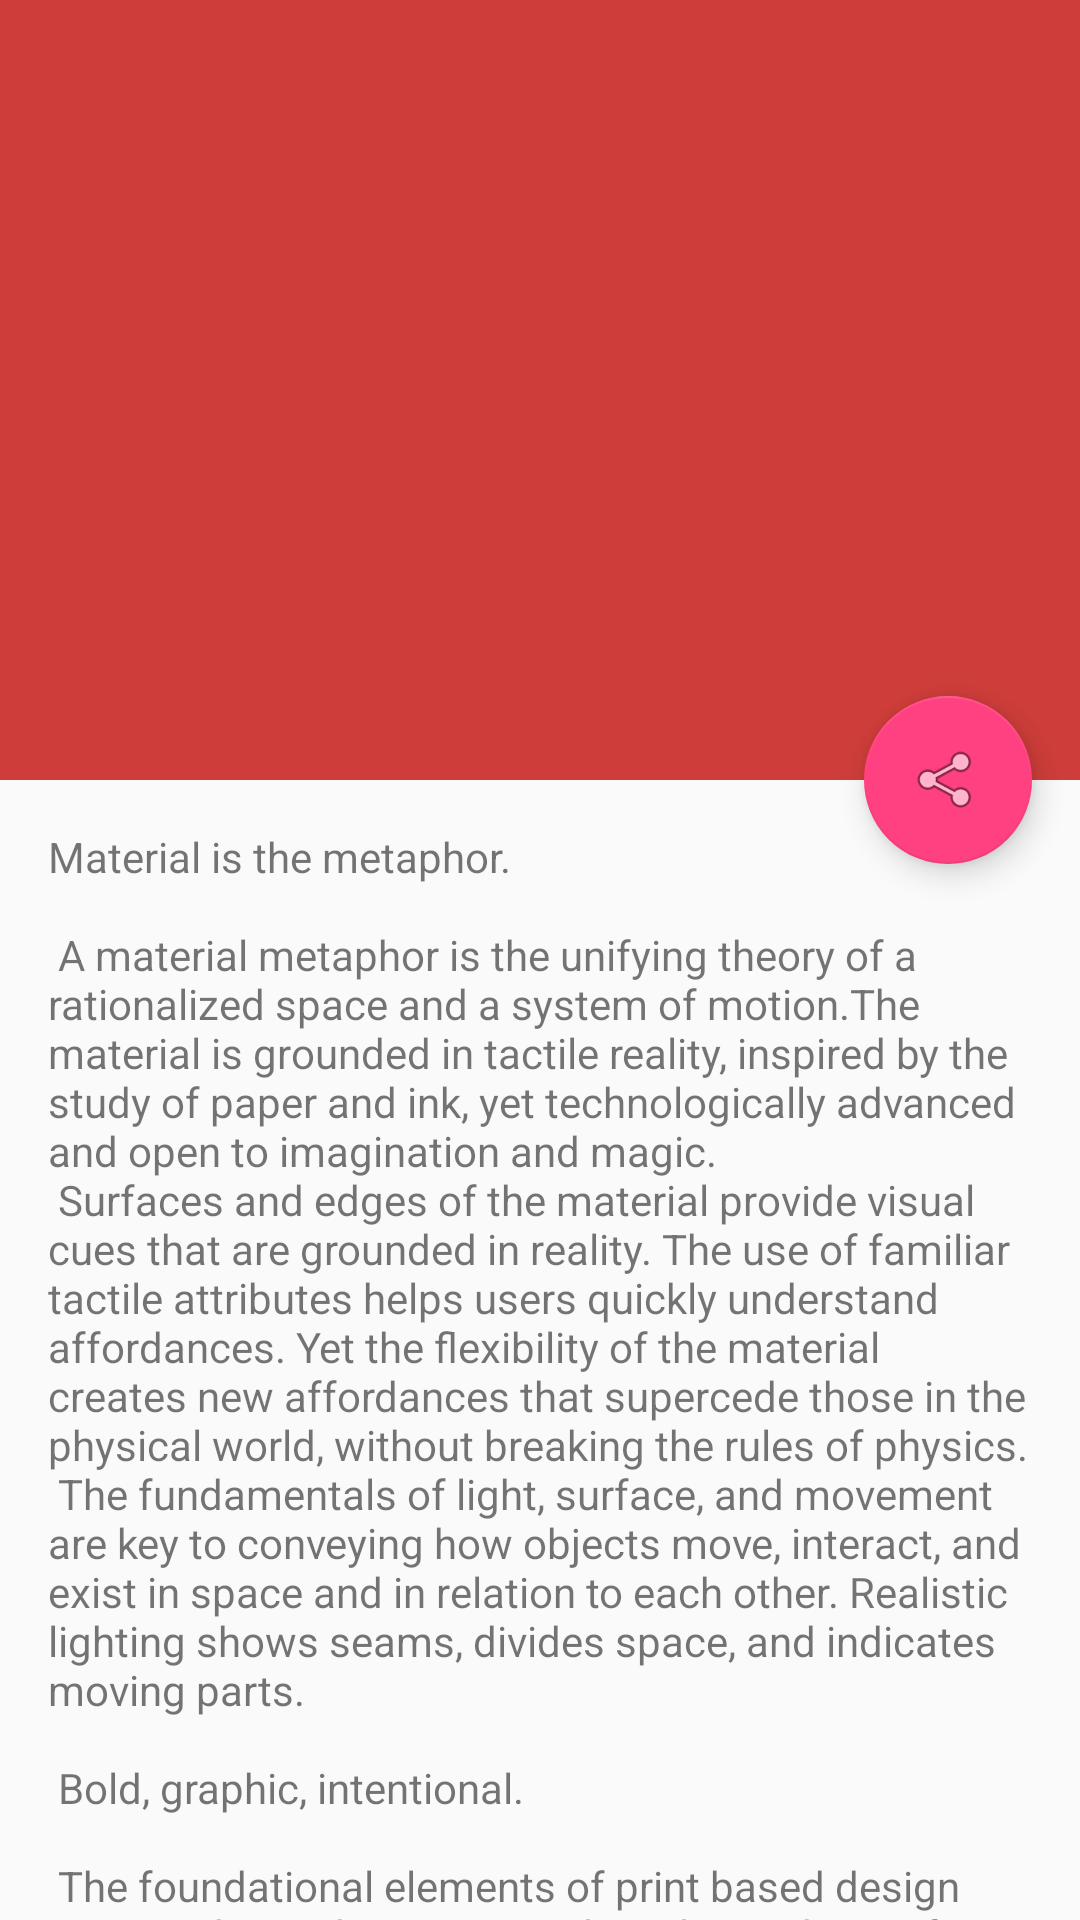

Screen size 1080x1920. Icon name, then its center in pixels as (x,y):
share: (948,780)
